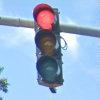traffic lights: (31, 4, 64, 87)
